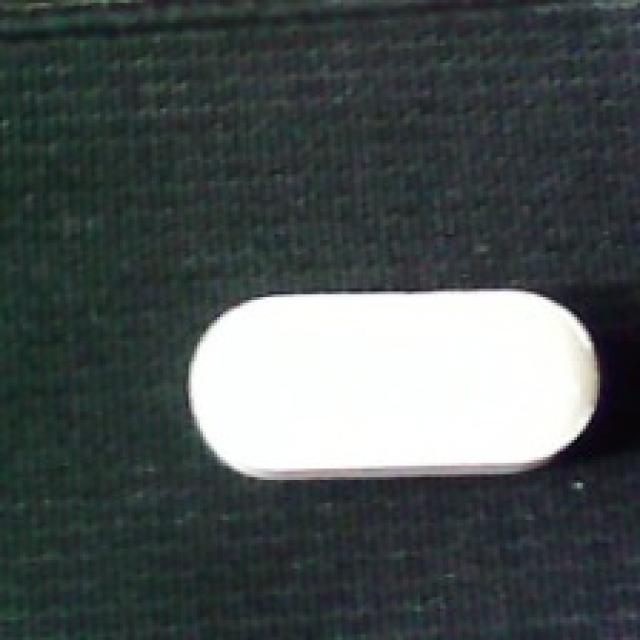no-defect: (183, 280, 603, 480)
